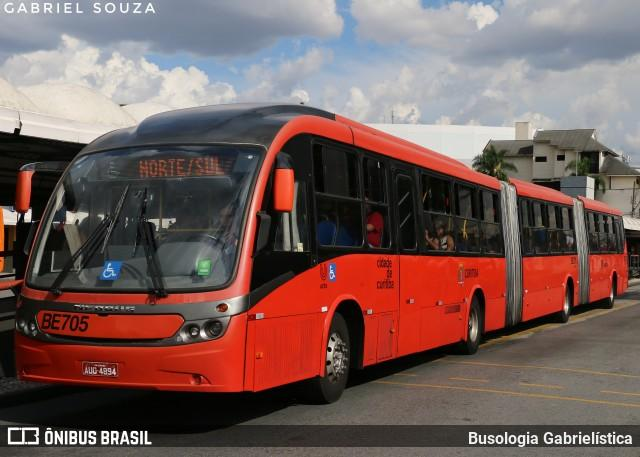NORTE SUL: (135, 152, 228, 181)
